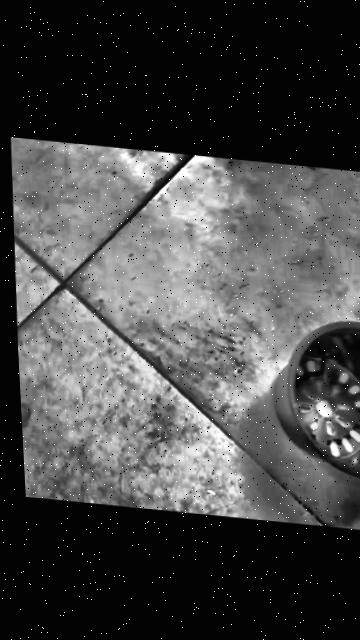pot: (265, 314, 360, 481)
